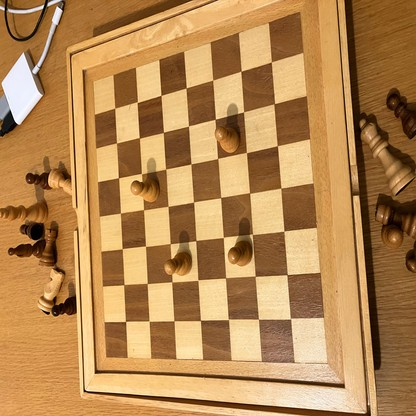bishop_black: (7, 242, 46, 259)
king_white: (0, 200, 49, 220)
knight_white: (37, 269, 64, 314)
pawn_black: (387, 89, 416, 137), (52, 296, 78, 317), (25, 172, 51, 190), (20, 224, 44, 238)
pawn_white: (164, 251, 192, 276), (131, 179, 160, 203), (382, 222, 403, 250), (216, 128, 240, 152), (228, 243, 253, 265)
queen_white: (357, 116, 415, 193)
rock_black: (373, 194, 416, 236), (38, 227, 57, 267)
